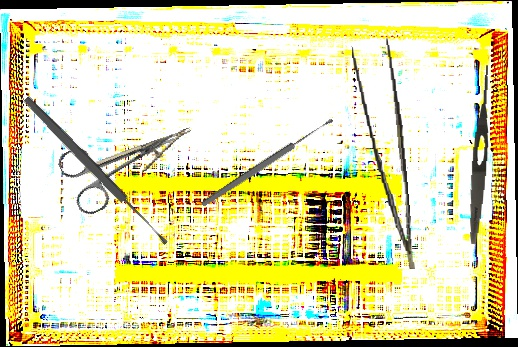Dressing Forceps: (465, 63, 495, 245)
Iris Scissors: (55, 108, 189, 219)
Needle Holder: (82, 127, 199, 190)
Surgical Spoon: (21, 94, 171, 248), (200, 116, 335, 209)
Tissue Forceps: (350, 36, 416, 273)
